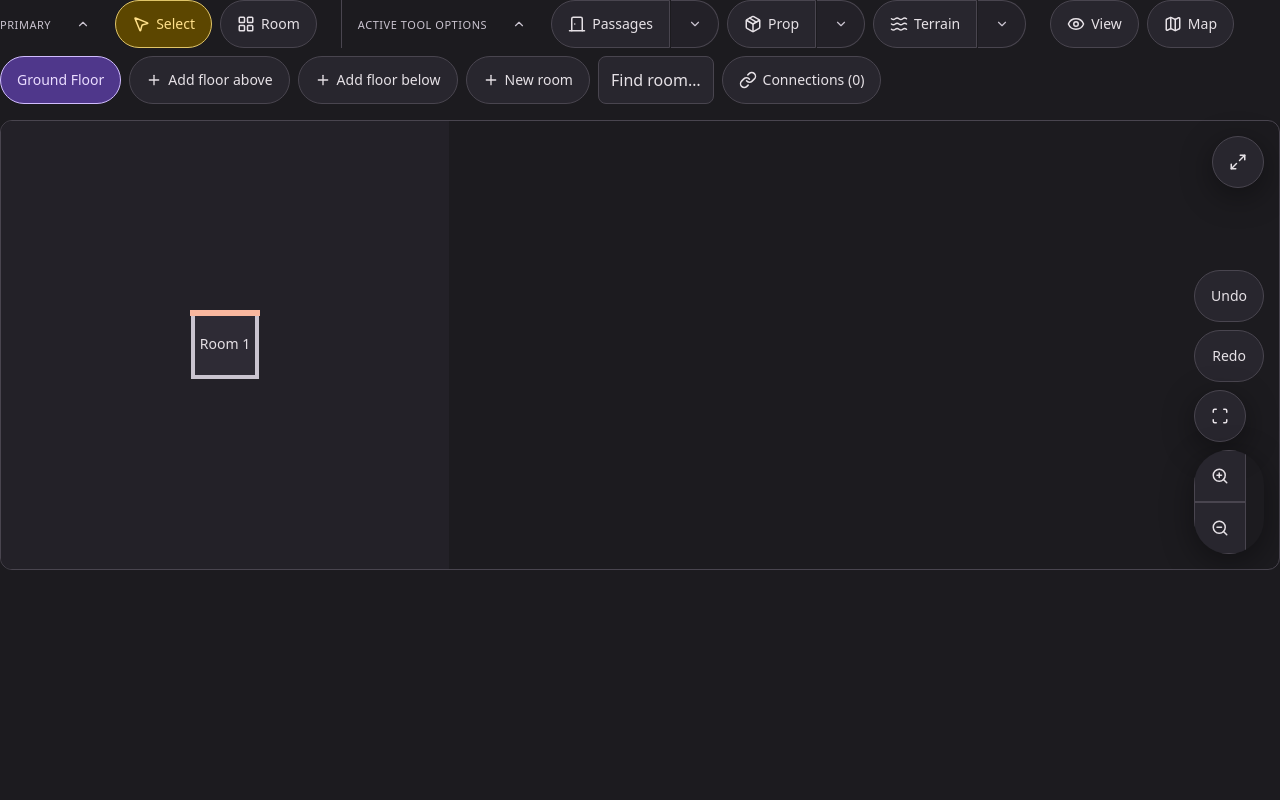
MapLabEditorPage (Stage E3 — Toolbar reorganization & persistent inspector) › toolbar separates Primary and Active tool options and folds Reset into the Map popover
Expected: the element with class "maplab-toolbar-group" reads "Primary Select Room", x1=0 y1=0 x2=333 y2=48
Expected: the element with class "maplab-toolbar-group" reads "Active tool options Passages Prop Terrain", x1=341 y1=0 x2=1042 y2=48
Click the button "Map". click: {"x": 1190, "y": 24}
box: x1=1147 y1=0 x2=1234 y2=48
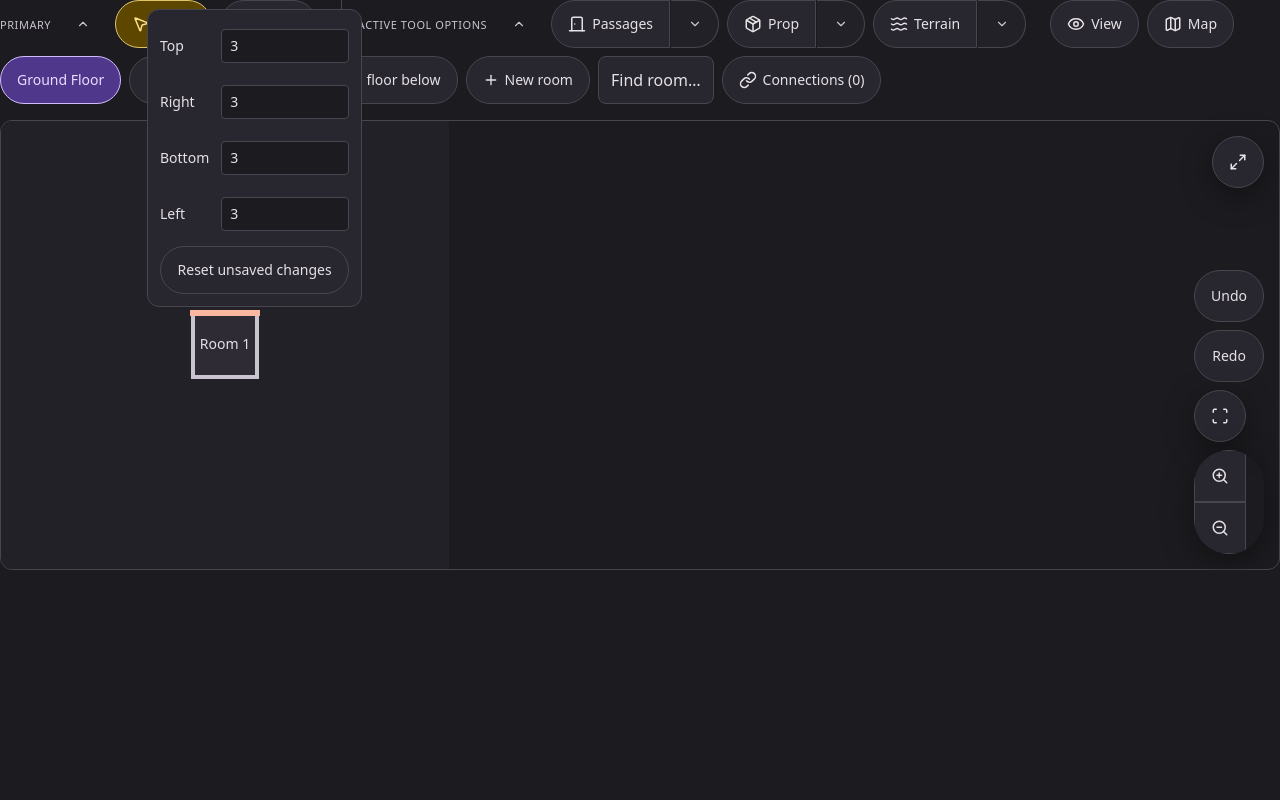
Expected: the button "Find room…" is shown, x1=598 y1=56 x2=714 y2=104
Now the button "Reset unsaved changes" is shown, box x1=160 y1=246 x2=349 y2=294
